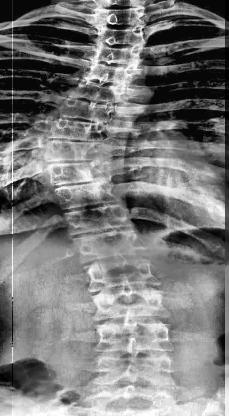Vertebrae: (93, 318, 173, 356), (83, 258, 165, 292), (75, 228, 148, 264), (94, 351, 176, 383), (94, 287, 170, 321), (63, 202, 137, 236), (54, 180, 122, 212), (45, 157, 111, 187), (67, 78, 126, 106), (41, 136, 96, 164), (55, 98, 113, 124), (46, 118, 106, 142), (86, 62, 136, 88), (94, 41, 142, 65), (94, 6, 146, 28), (97, 27, 148, 47)
